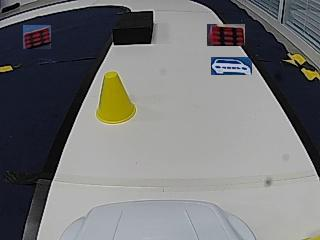block: (113, 10, 153, 44)
cone: (97, 70, 136, 124)
